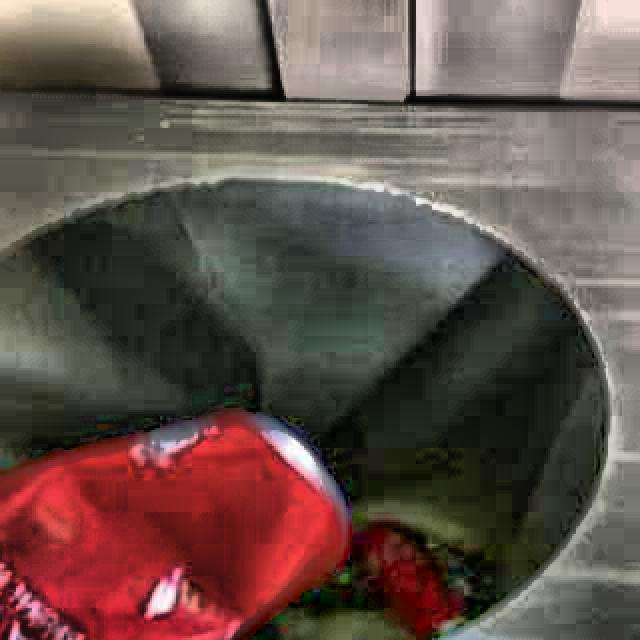metal: (0, 418, 347, 640)
